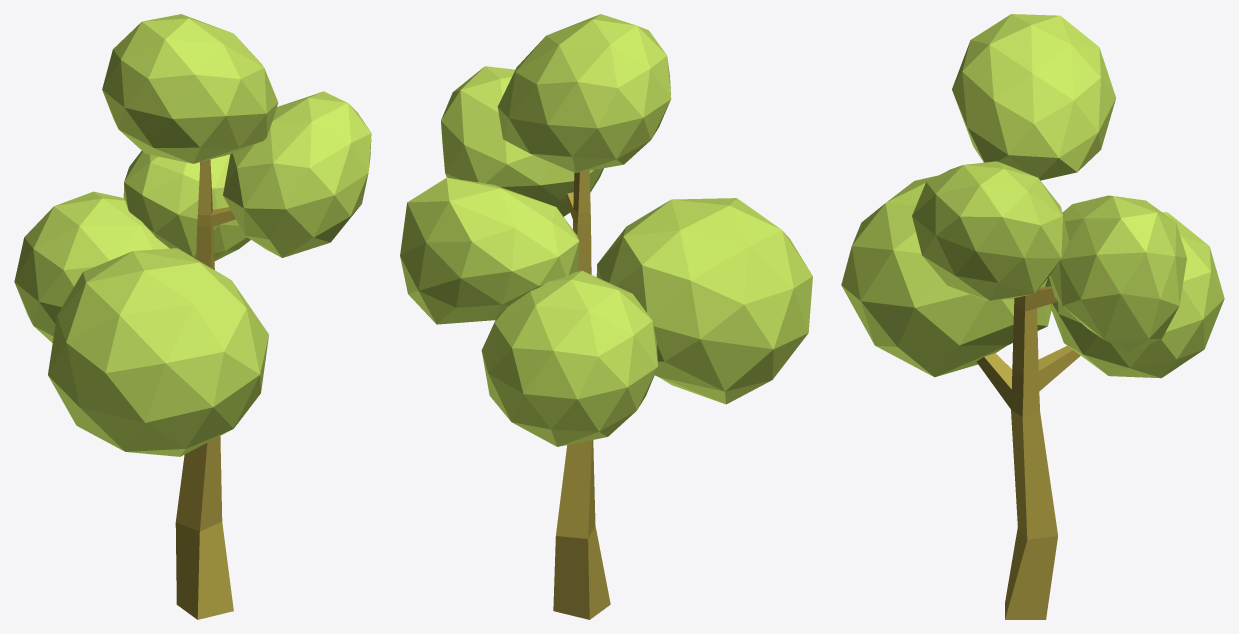
File: OakTree2Light3.fbx
3 renders of one model, left to right at view 1: azimuth 30°, elevation 25°; view 2: azimuth 150°, elevation 25°; view 3: azimuth 270°, elevation 25°, orthographic. The views are drawn at different scales.
Parts seen in each view (by area): view 1: OakTree2; view 2: OakTree2; view 3: OakTree2.
Part boxes in pixels (x1,y1,x2,y2): OakTree2: (14,14,371,619); OakTree2: (400,14,812,619); OakTree2: (841,14,1224,619).
Size of the model in its own units: 427 by 763 by 458.
